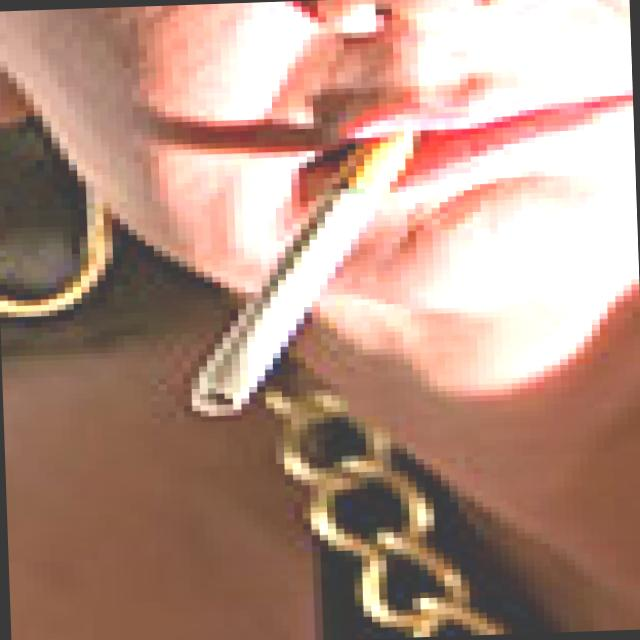cigarette: (172, 117, 422, 424)
